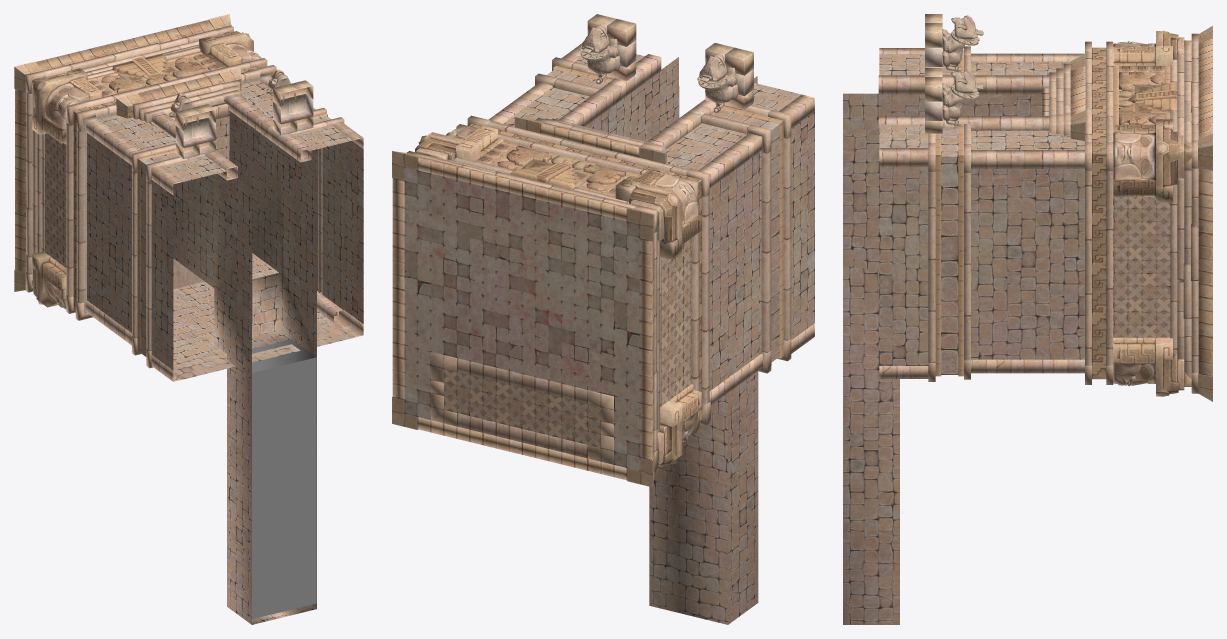
The model's file is SphinxCave.obj.
3 views of the same model, side by side, from view 1: azimuth 30°, elevation 25°; view 2: azimuth 150°, elevation 25°; view 3: azimuth 270°, elevation 25° (orthographic). The views are drawn at different scales.
Visible parts, largest first — view 1: pasted__pCube4807__WallBrickBase04, EdgeStone01_low1__EdgeStoneBlock02, BlackIn__Black00, Edge00_Low561__EdgeStoneBlock03, ReliefStonePattern08_low42__ReliefStonePattern08, pCube4520_1__StoneGateBlock00, JaGuarRelief30__ReliefStonePattern07, Celling13__ReliefStoneCross01, Body1_1__BlockStoneBase02, polySurface10__ReliefStonePattern01; view 2: pasted__pCube4807__WallBrickBase04, Celling12__FloorStoneBase02, EdgeStone01_low1__EdgeStoneBlock02, Edge00_Low561__EdgeStoneBlock03, Celling13__ReliefStoneCross01, ReliefStonePattern08_low42__ReliefStonePattern08, JaGuarRelief30__ReliefStonePattern07, pCube4520_1__StoneGateBlock00, Body1_1__BlockStoneBase02, polySurface10__ReliefStonePattern01; view 3: pasted__pCube4807__WallBrickBase04, EdgeStone01_low1__EdgeStoneBlock02, Edge00_Low561__EdgeStoneBlock03, ReliefStonePattern08_low42__ReliefStonePattern08, Celling13__ReliefStoneCross01, JaGuarRelief30__ReliefStonePattern07, polySurface10__ReliefStonePattern01, Body1_1__BlockStoneBase02, pCube4520_1__StoneGateBlock00.
Boxes of the visible parts, bbox=[...] form: pasted__pCube4807__WallBrickBase04: bbox=[87, 80, 363, 624]; EdgeStone01_low1__EdgeStoneBlock02: bbox=[15, 20, 327, 351]; BlackIn__Black00: bbox=[252, 339, 316, 618]; Edge00_Low561__EdgeStoneBlock03: bbox=[14, 14, 363, 381]; ReliefStonePattern08_low42__ReliefStonePattern08: bbox=[32, 31, 261, 309]; pCube4520_1__StoneGateBlock00: bbox=[175, 80, 313, 158]; JaGuarRelief30__ReliefStonePattern07: bbox=[87, 51, 327, 354]; Celling13__ReliefStoneCross01: bbox=[45, 133, 66, 267]; Body1_1__BlockStoneBase02: bbox=[81, 69, 296, 313]; polySurface10__ReliefStonePattern01: bbox=[73, 64, 265, 309]; pasted__pCube4807__WallBrickBase04: bbox=[503, 54, 814, 624]; Celling12__FloorStoneBase02: bbox=[404, 167, 640, 470]; EdgeStone01_low1__EdgeStoneBlock02: bbox=[392, 62, 791, 480]; Edge00_Low561__EdgeStoneBlock03: bbox=[392, 43, 814, 487]; Celling13__ReliefStoneCross01: bbox=[444, 238, 691, 447]; ReliefStonePattern08_low42__ReliefStonePattern08: bbox=[415, 125, 701, 466]; JaGuarRelief30__ReliefStonePattern07: bbox=[476, 66, 783, 364]; pCube4520_1__StoneGateBlock00: bbox=[587, 14, 753, 109]; Body1_1__BlockStoneBase02: bbox=[579, 24, 738, 112]; polySurface10__ReliefStonePattern01: bbox=[469, 123, 701, 420]; pasted__pCube4807__WallBrickBase04: bbox=[843, 54, 1084, 624]; EdgeStone01_low1__EdgeStoneBlock02: bbox=[928, 38, 1212, 379]; Edge00_Low561__EdgeStoneBlock03: bbox=[878, 25, 1212, 401]; ReliefStonePattern08_low42__ReliefStonePattern08: bbox=[1113, 30, 1191, 396]; Celling13__ReliefStoneCross01: bbox=[1113, 197, 1170, 337]; JaGuarRelief30__ReliefStonePattern07: bbox=[935, 50, 1177, 376]; polySurface10__ReliefStonePattern01: bbox=[1092, 47, 1106, 379]; Body1_1__BlockStoneBase02: bbox=[942, 15, 983, 125]; pCube4520_1__StoneGateBlock00: bbox=[925, 14, 942, 133].
Bounding box in the file's own units: 1992 × 4376 × 2600.
13 materials, 11 textured.
